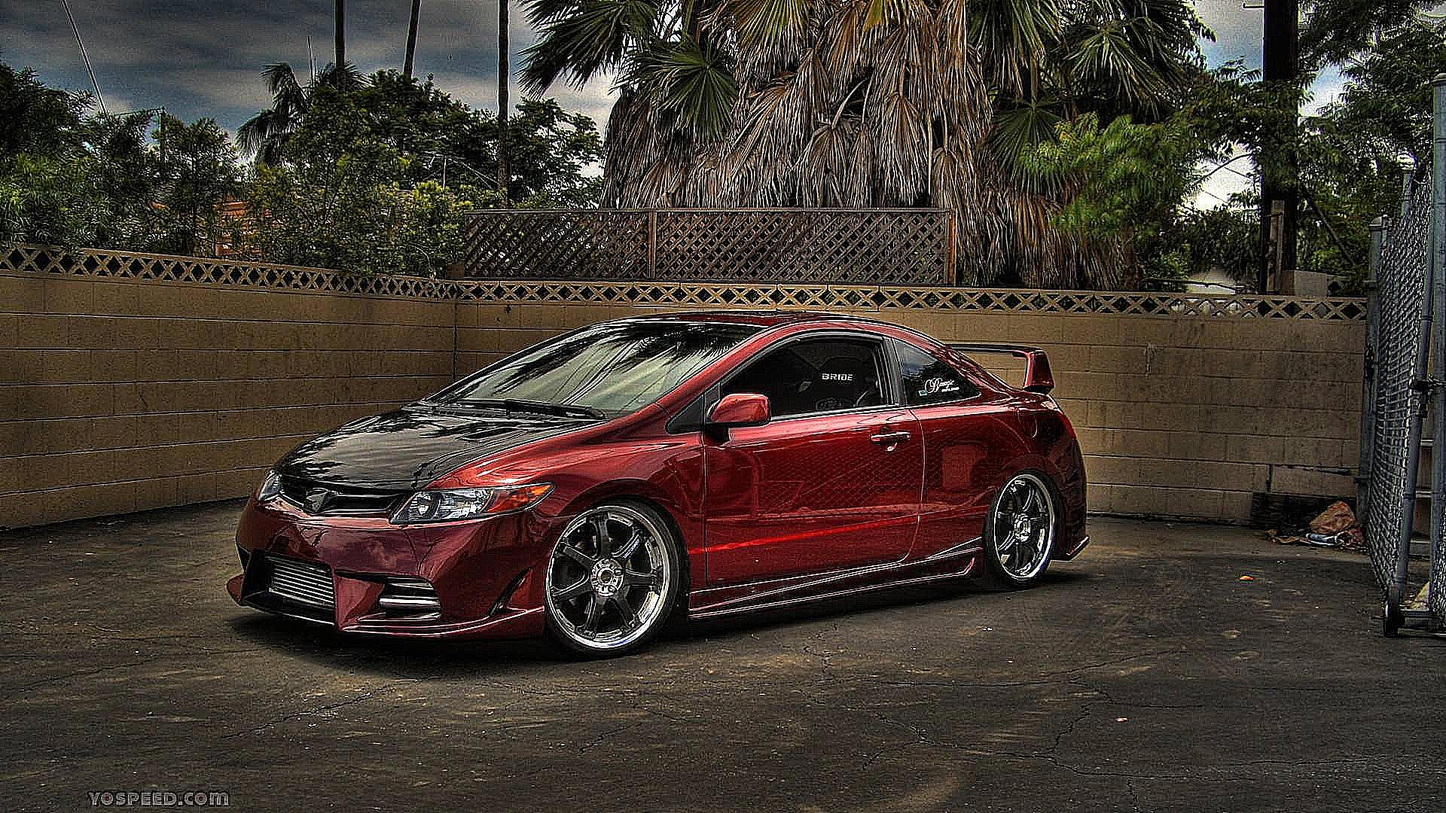Car hood: (271, 397, 605, 485)
Fender - -F-L-: (531, 398, 714, 621)
Fender - -R-L-: (985, 385, 1096, 500)
Front bumper: (216, 505, 567, 653)
Headlight - -L-: (385, 477, 558, 531)
Headlight - -R-: (247, 459, 297, 507)
Passenger-s door - -F-L-: (698, 314, 932, 586)
Rear bumper: (1043, 480, 1108, 574)
Rear light - -L-: (1047, 382, 1088, 444)
Side bumper - -L-: (680, 532, 991, 630)
Side mirror - -L-: (702, 385, 775, 438)
